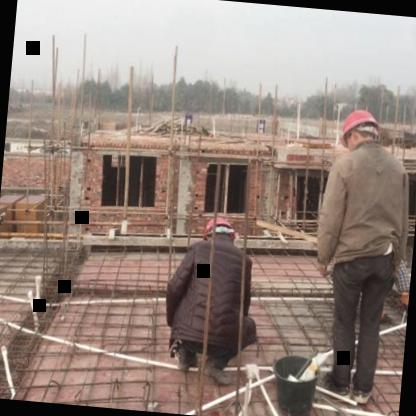helmet: (332, 101, 388, 161), (199, 210, 241, 252)
